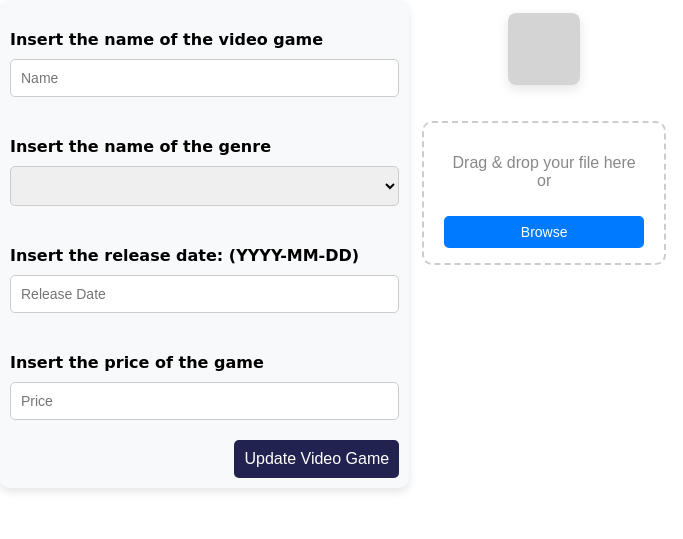
Test: VideoGameForm › remove error messages once the issue has been solved
The width and height of the screenshot is (683, 539).
Type "2026-26-26" into the field with placeholder "Release Date" at (205, 294), box [10,275,399,313]
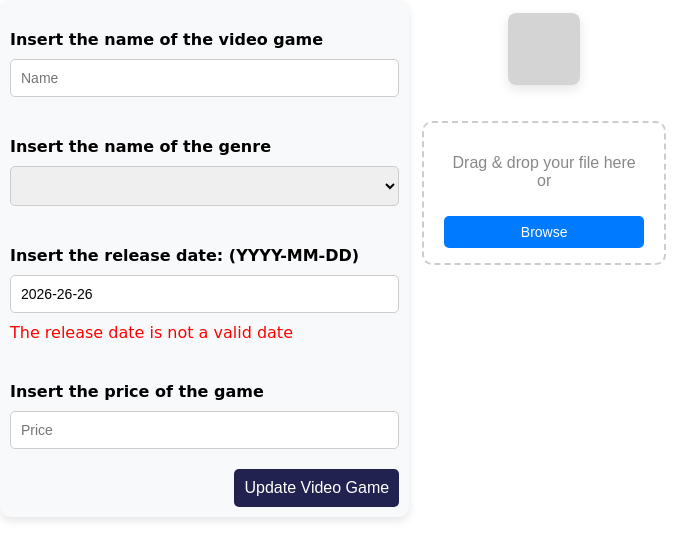
Result: the text with class "error" reads "The release date is not a valid date" at [10,323,293,342]
Replace the text in the 2nd field with "2023-12-23" at (205, 294), box [10,275,399,313]
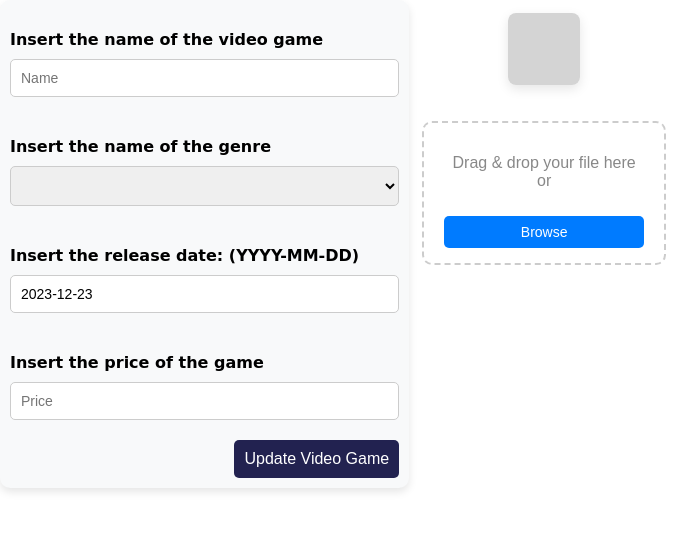
Result: the text with class "error" is gone
